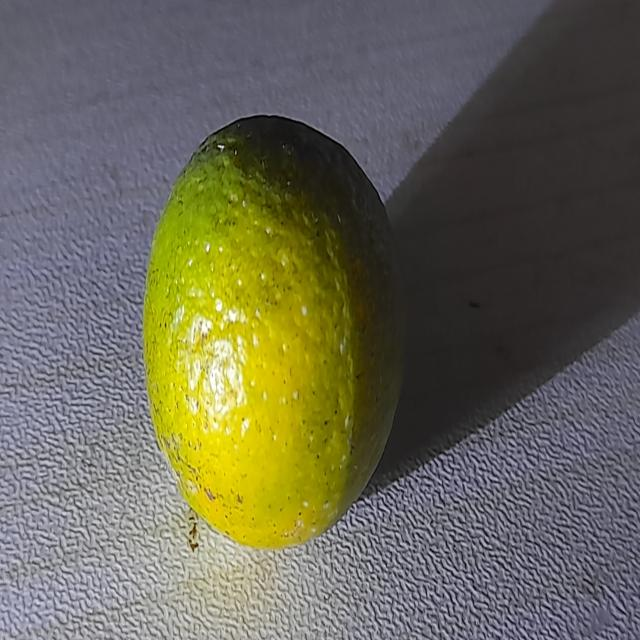greening: (145, 117, 412, 552)
